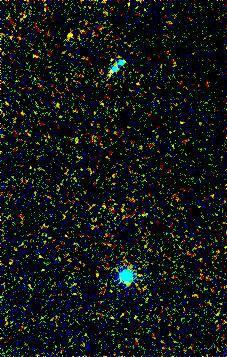star: (55, 19, 85, 49)
